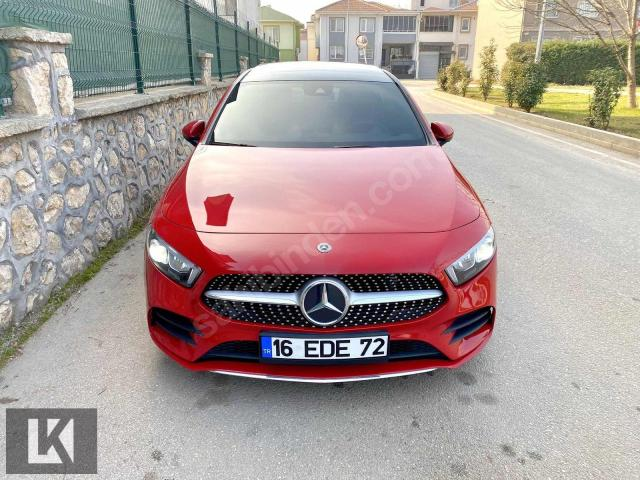plaka: (260, 334, 389, 360)
